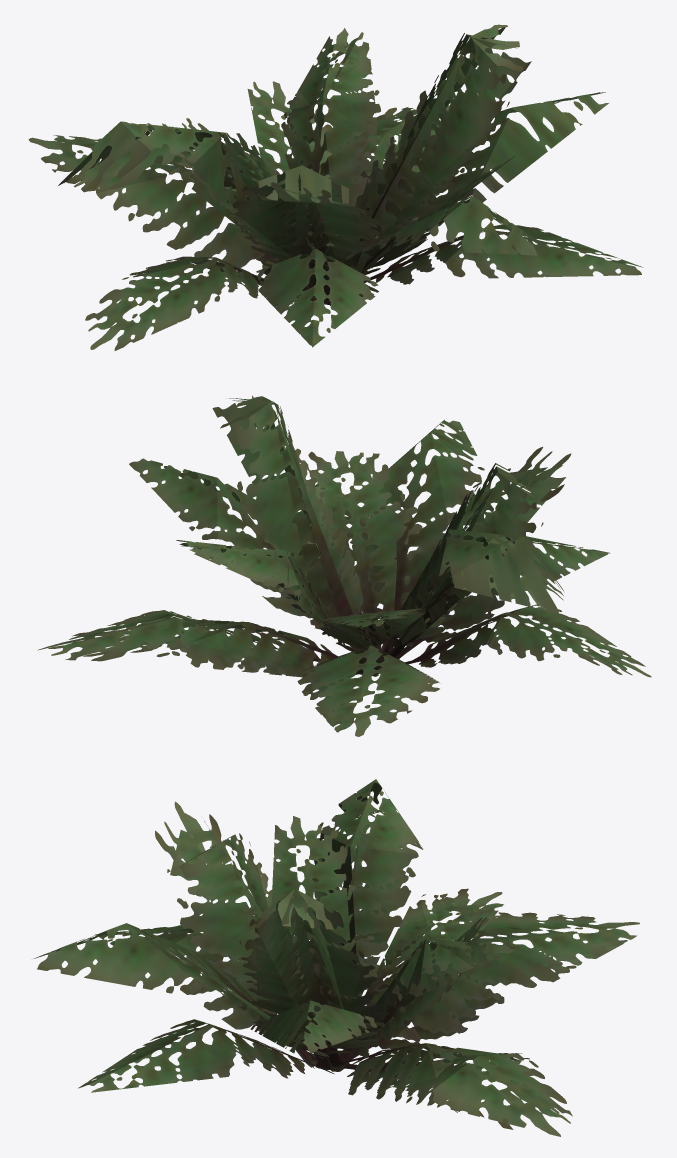
File: sd_zhiwu03.FBX
The picture shows the model from 3 angles, top to bottom: view 1: azimuth 30°, elevation 25°; view 2: azimuth 150°, elevation 25°; view 3: azimuth 270°, elevation 25°; orthographic projection. The views are drawn at different scales.
Parts seen in each view (by area): view 1: sd_zhiwu03_B; view 2: sd_zhiwu03_B; view 3: sd_zhiwu03_B.
Part boxes in pixels (x1,y1,x2,y2): sd_zhiwu03_B: (28, 24, 643, 350); sd_zhiwu03_B: (37, 395, 651, 736); sd_zhiwu03_B: (33, 779, 639, 1136).
Bounding box in the file's own units: 131 × 54.53 × 133.
